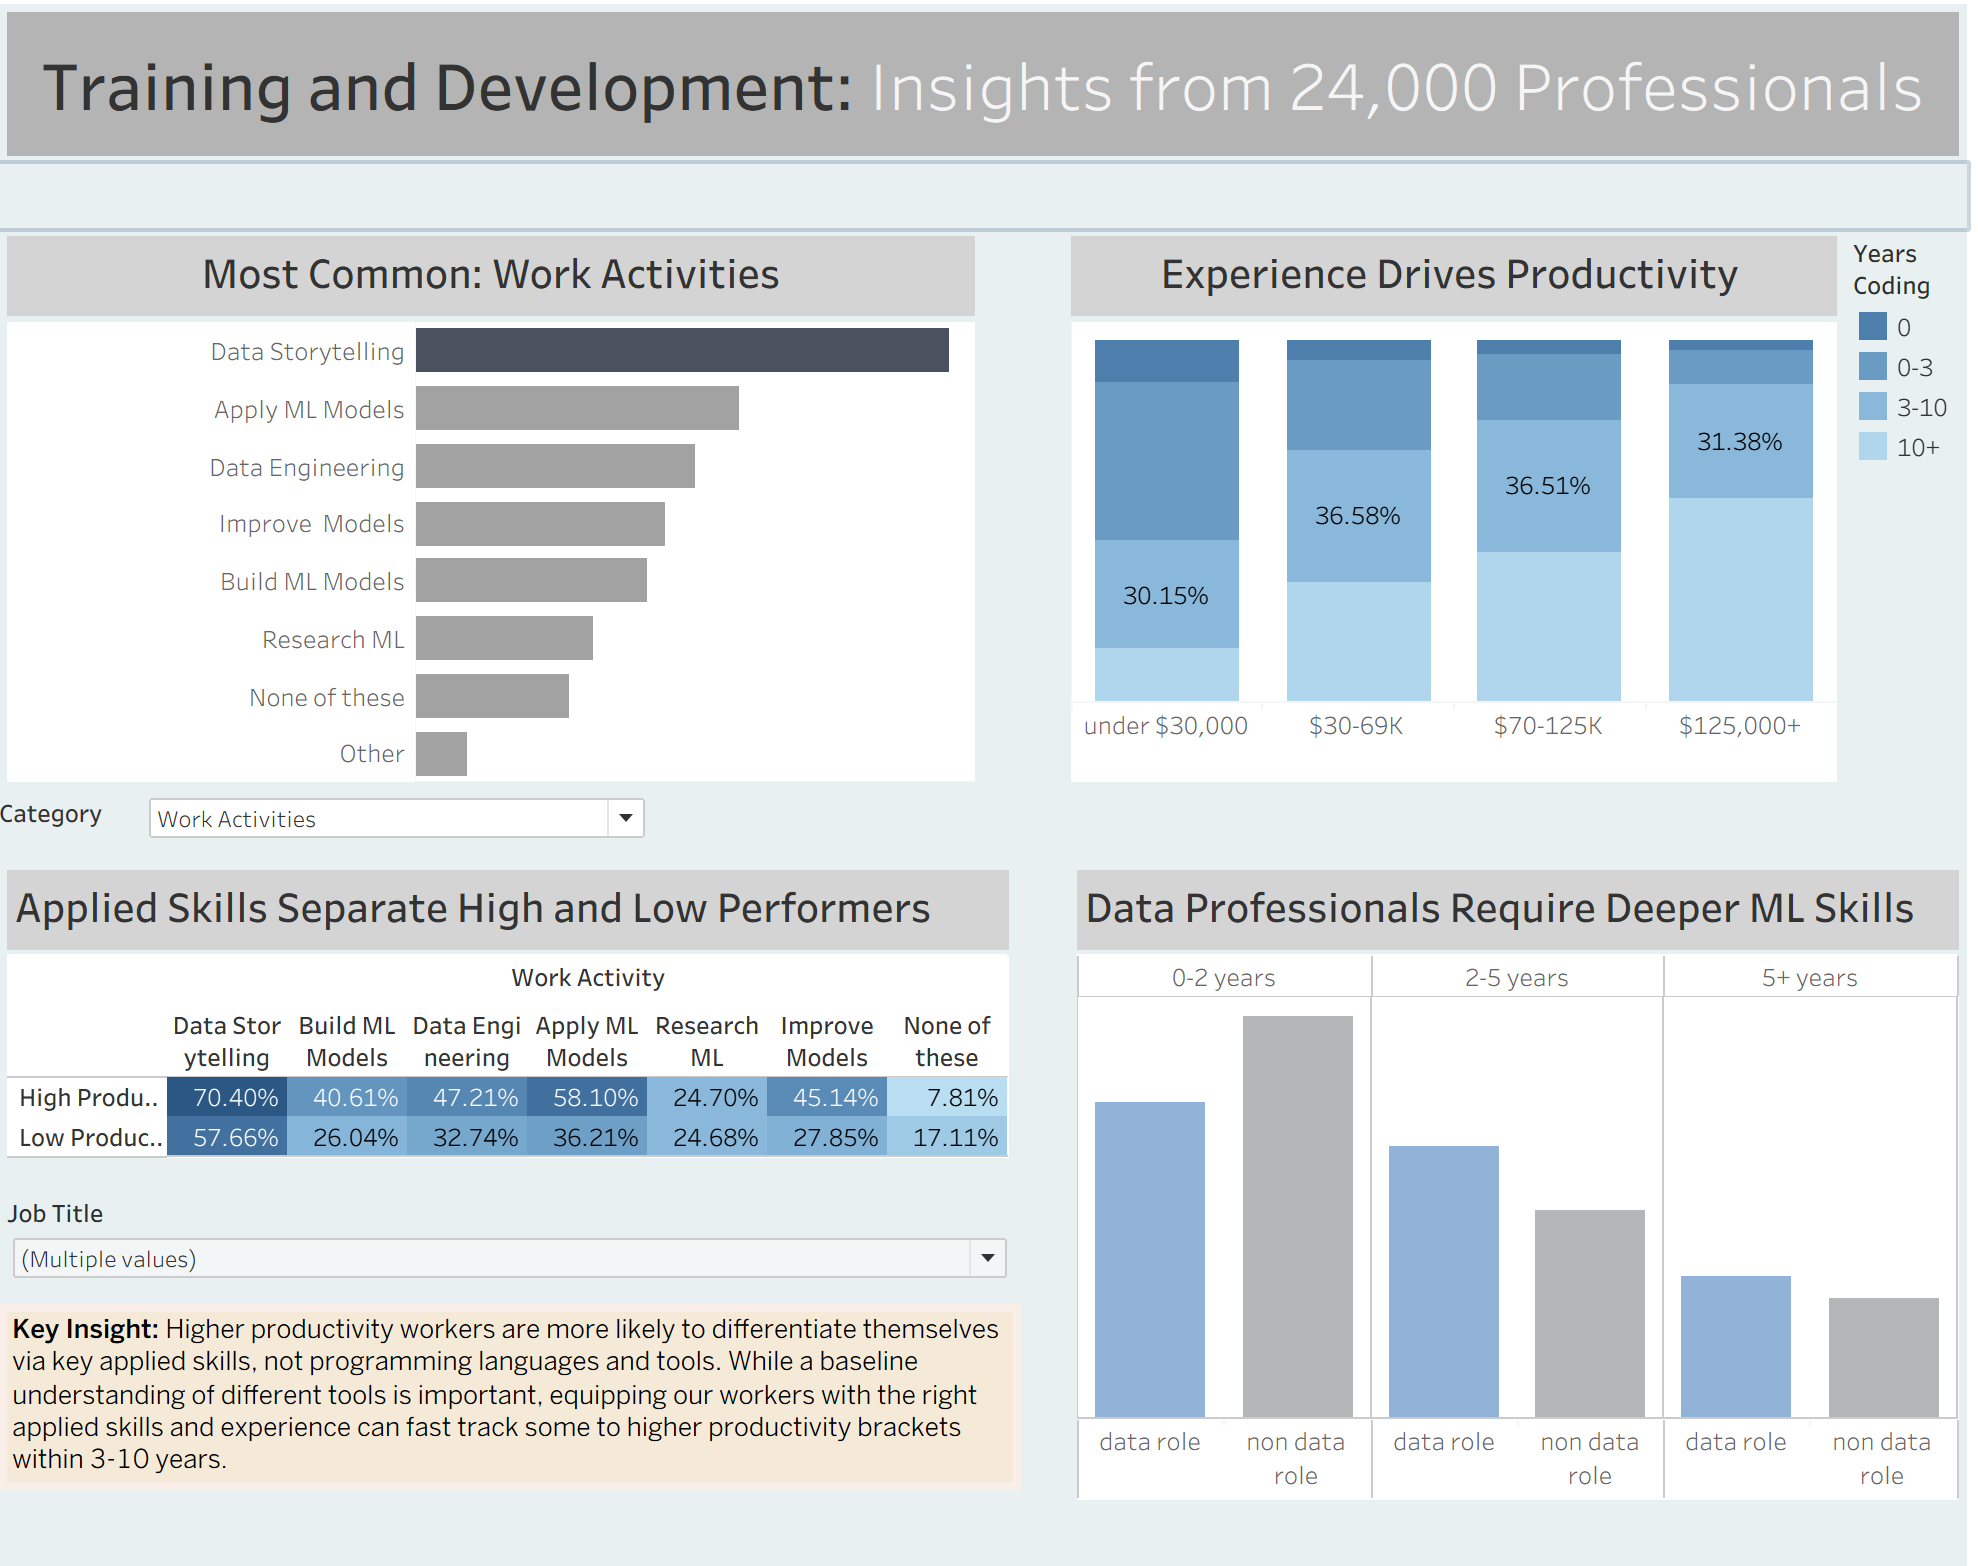

Layout of this report page (visuals, bound fields, positions):
{"tool":"tableau","page":{"name":"Dashboard 1","canvas":[1000,800],"ordinal":0},"visuals":[{"type":"title","box":[8,8,984,80]},{"type":"worksheet","title":"Work activities","mark":"Automatic","rows":["work_activity"],"cols":["work_activities.csv_782F92F6139B4924A7C58054E864E9E8"],"box":[8,120,492,280.8]},{"type":"worksheet","title":"Salary by experience bar chart","mark":"Bar","cols":["salary_usd"],"box":[540,120,391,280.8]},{"type":"legend","title":"Salary by experience bar chart","param":"[federated.0e85xo51uw6vm51h4mzgl0pngnr3].[none:years_coding:nk]","box":[931,120,61,123]},{"type":"worksheet","title":"Popularity of Languages","mark":"Automatic","rows":["language"],"cols":["languages.csv_148442042C8A4BBDAE4841F7B905479A"],"box":[13,153,484,244]},{"type":"worksheet","title":"First useful training platform ","mark":"Automatic","rows":["first_helpful_platform"],"cols":["first_helpful_platforms.csv_0979979DFCC34C1984F9623D00E17353"],"box":[14,169,483,229]},{"type":"worksheet","title":"Popularity of Learning platforms","mark":"Automatic","rows":["course_platform"],"cols":["demographics.csv_8D369EA7AFF24078A78FC23D0A8CEAB7"],"box":[13,170,483,226]},{"type":"parameter","param":"[Parameters].[Parameter 1876607929933839]","box":[8,402,326,31]},{"type":"worksheet","title":"Salary x work_activities","mark":"Automatic","cols":["work_activity"],"box":[8,436.9,511,163]},{"type":"worksheet","title":"ML experience ","mark":"Automatic","cols":["years_ml","job_title"],"box":[543,436.9,449,323.1]},{"type":"filter","title":"Salary x work_activities","param":"[federated.0e85xo51uw6vm51h4mzgl0pngnr3].[none:job_title:nk]","box":[8,599.9,511,58]},{"type":"text","box":[8,657.9,511,93]}]}

Visuals, with their boxes in screenshot pixels (x1, y1, x2, y2), scaled from the page's 1000x800 canvas onto the 1978x1566 screenshot:
title: {"x1": 16, "y1": 16, "x2": 1962, "y2": 172}
"Work activities" worksheet: {"x1": 16, "y1": 235, "x2": 989, "y2": 785}
"Salary by experience bar chart" worksheet (Bar marks): {"x1": 1068, "y1": 235, "x2": 1842, "y2": 785}
"Salary by experience bar chart" legend: {"x1": 1842, "y1": 235, "x2": 1962, "y2": 476}
"Popularity of Languages" worksheet: {"x1": 26, "y1": 299, "x2": 983, "y2": 777}
"First useful training platform " worksheet: {"x1": 28, "y1": 331, "x2": 983, "y2": 779}
"Popularity of Learning platforms" worksheet: {"x1": 26, "y1": 333, "x2": 981, "y2": 775}
parameter: {"x1": 16, "y1": 787, "x2": 661, "y2": 848}
"Salary x work_activities" worksheet: {"x1": 16, "y1": 855, "x2": 1027, "y2": 1174}
"ML experience " worksheet: {"x1": 1074, "y1": 855, "x2": 1962, "y2": 1488}
"Salary x work_activities" filter: {"x1": 16, "y1": 1174, "x2": 1027, "y2": 1288}
text: {"x1": 16, "y1": 1288, "x2": 1027, "y2": 1470}
